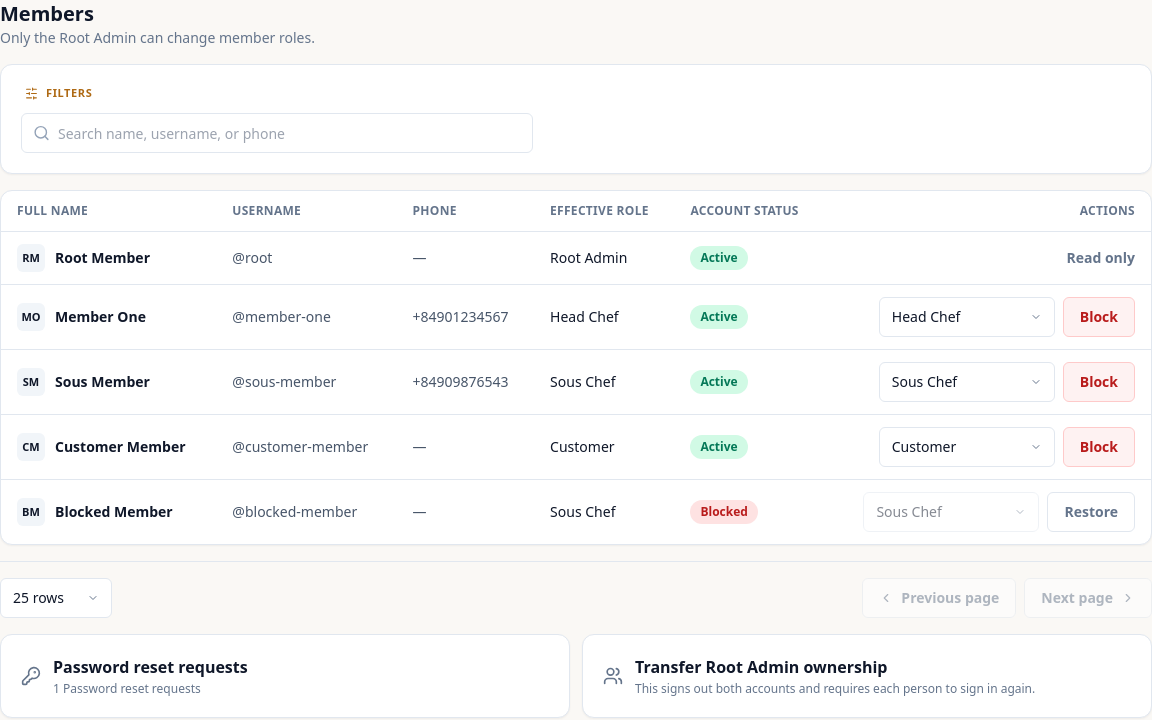
AdminPage ROOT_ADMIN governance › searches the authenticated member snapshot by name, username, and phone
Step 1. Type "member one" into the search field labelled "Search name, username, or phone" → (277, 133), box [21,113,533,153]
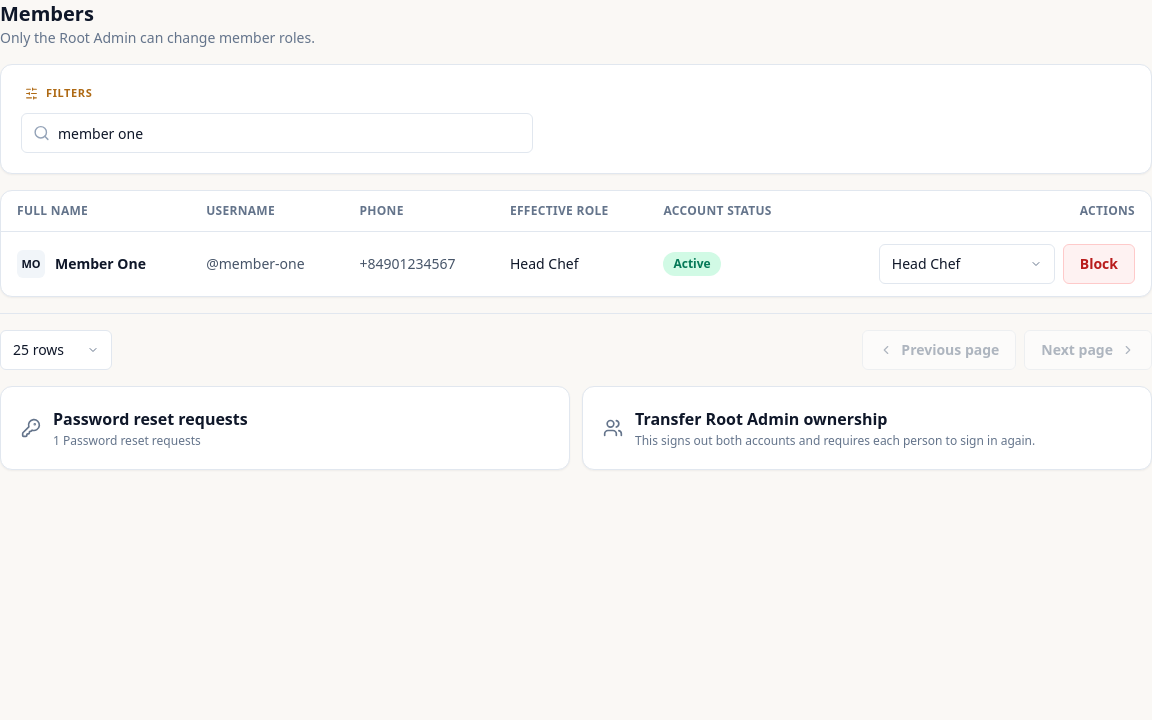
Expected: the text "Member One" is shown, [55,254,146,274]
Now the text "Root Member" is gone
Step 2. Replace the text in the search field named "Search name, username, or phone" with "sous-member" → (277, 133), box [21,113,533,153]
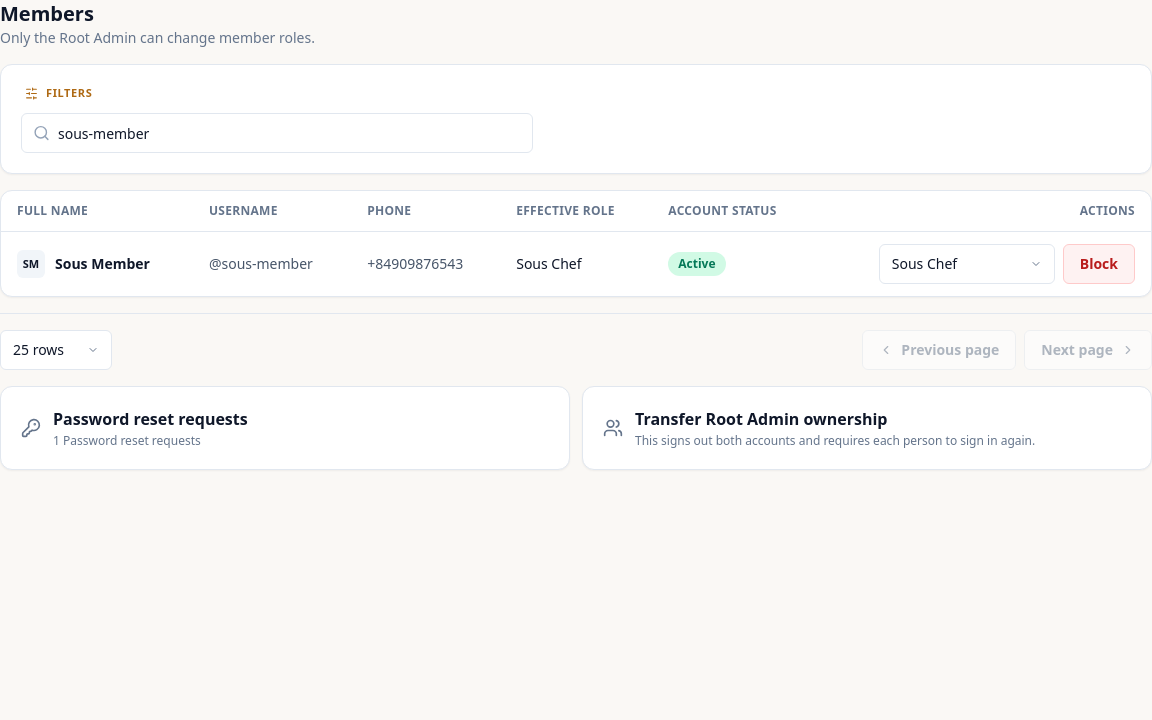
Now the text "Sous Member" is shown, box [55,254,150,274]
Step 3. Replace the text in the search field named "Search name, username, or phone" with "+84901234567" → (277, 133), box [21,113,533,153]
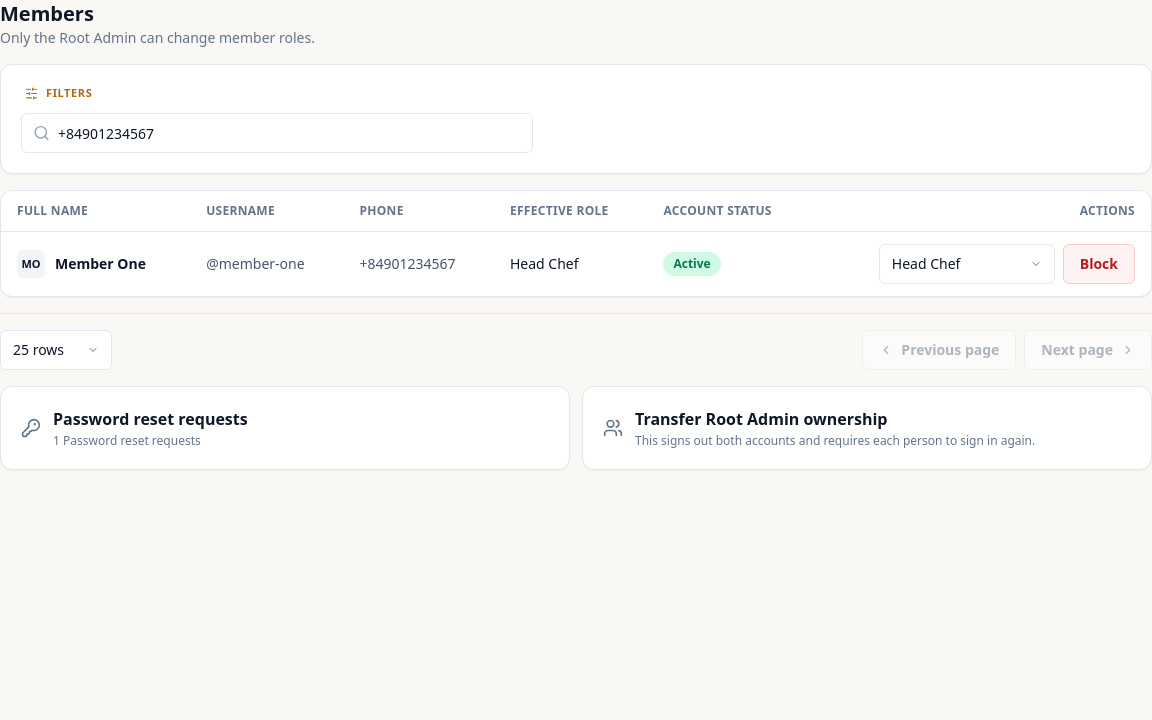
Now the text "Member One" is shown, box [55,254,146,274]
Step 4. Replace the text in the search field named "Search name, username, or phone" with "not-a-member" → (277, 133), box [21,113,533,153]
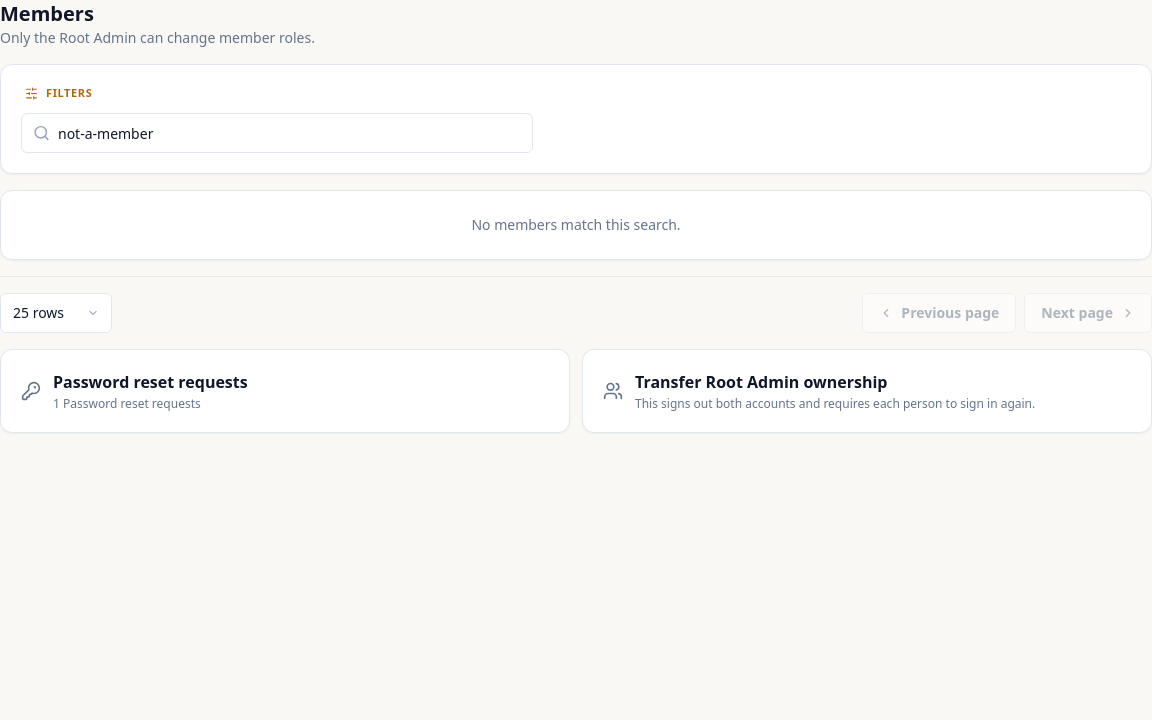
Now the text "No members match this search." is shown, box [0,190,1151,260]
Now the table is gone
